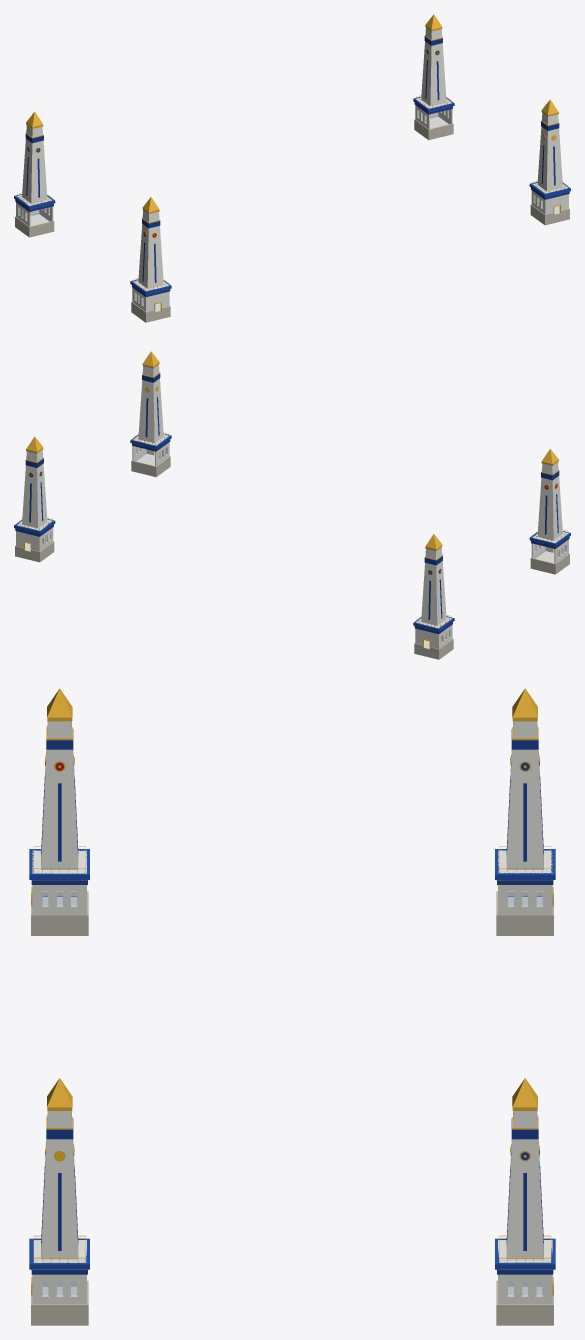
The model's file is SM_Academy_Towers.fbx.
3 renders of one model, top to bottom at view 1: azimuth 30°, elevation 25°; view 2: azimuth 150°, elevation 25°; view 3: azimuth 270°, elevation 25°, orthographic. The views are drawn at different scales.
Parts seen in each view (by area): view 1: SM_Academy_Towers; view 2: SM_Academy_Towers; view 3: SM_Academy_Towers.
Boxes of the visible parts, left/top/right/bottom form: SM_Academy_Towers: left=14, top=14, right=570, bottom=322; SM_Academy_Towers: left=14, top=351, right=570, bottom=659; SM_Academy_Towers: left=29, top=688, right=555, bottom=1325.
Bounding box in the file's own units: 215 × 57 × 115.
